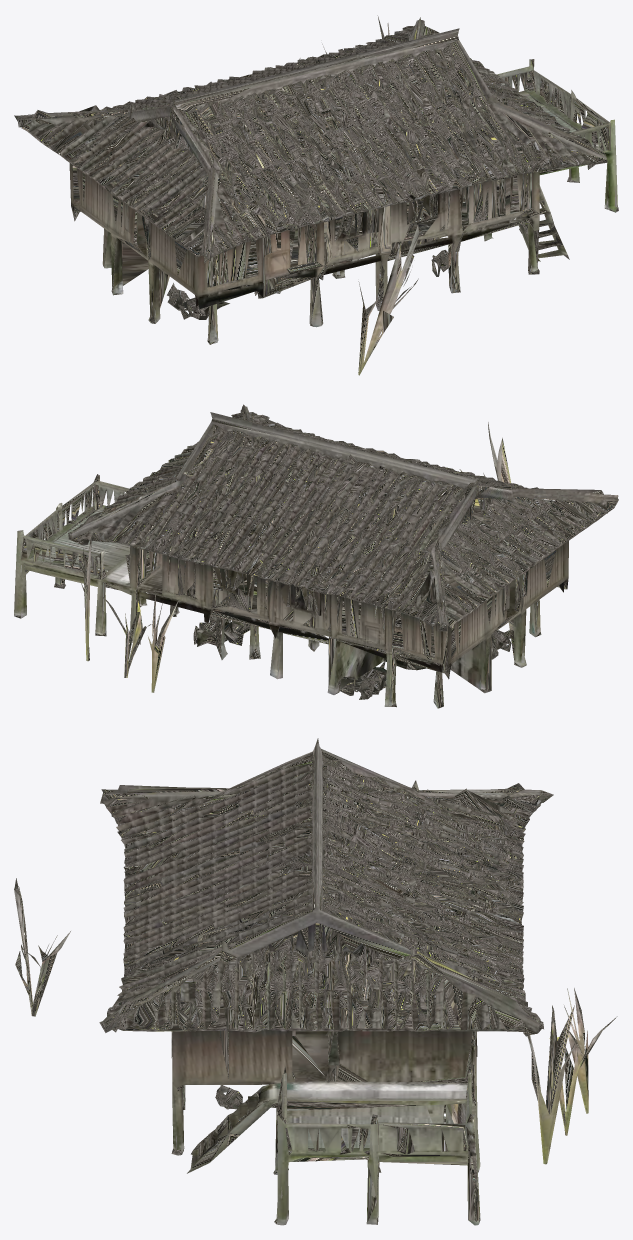
Rendered from bq_stilt.mid.glb.
3 views of the same model, one above another, from view 1: azimuth 30°, elevation 25°; view 2: azimuth 150°, elevation 25°; view 3: azimuth 270°, elevation 25° (orthographic). The views are drawn at different scales.
Visible parts, largest first — view 1: mesh_node; view 2: mesh_node; view 3: mesh_node.
Boxes of the visible parts, x1,y1,x2,y2 form: mesh_node: [14, 15, 618, 375]; mesh_node: [14, 404, 618, 708]; mesh_node: [14, 738, 617, 1225].
Bounding box in the file's own units: 1.9 × 0.7528 × 1.71.
Materials: 1 (1 with a texture image).
